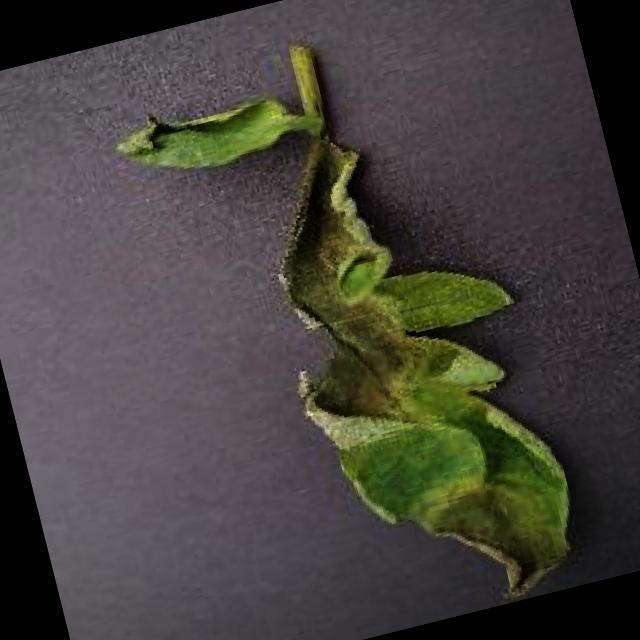Tomato late blight leaf: (236, 94, 599, 638), (108, 84, 290, 186)
